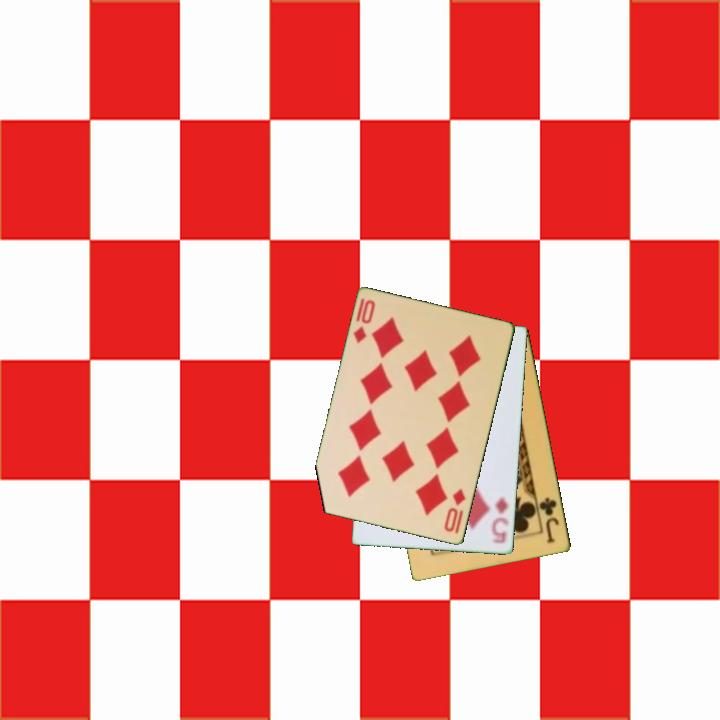10d: (350, 296, 378, 347), (441, 485, 469, 535)
5d: (488, 494, 512, 546)
Jc: (536, 494, 562, 546)
